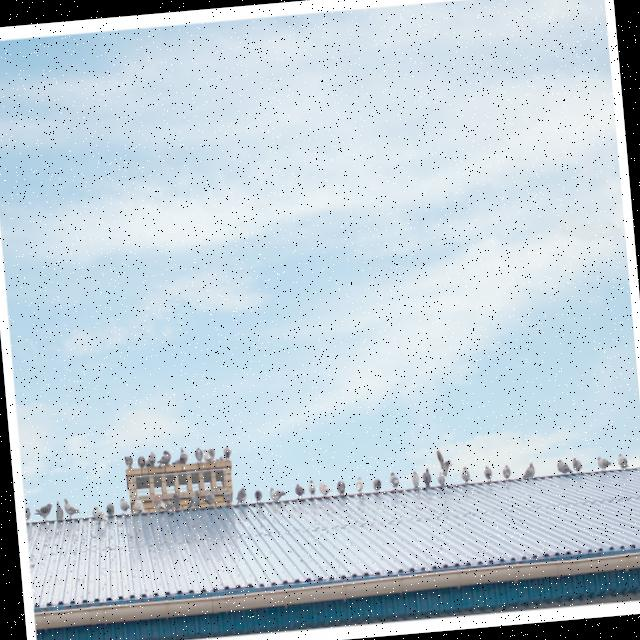bird: (434, 447, 454, 478), (32, 502, 54, 522), (62, 496, 80, 520), (268, 485, 287, 504), (154, 448, 172, 468), (90, 504, 107, 524), (520, 461, 536, 482), (232, 485, 248, 506), (420, 466, 433, 491), (556, 457, 572, 477), (596, 454, 612, 472), (616, 451, 629, 471), (410, 469, 421, 491), (104, 500, 116, 520), (388, 471, 400, 491), (144, 450, 157, 468), (459, 465, 471, 484), (54, 500, 64, 522), (571, 456, 583, 474), (176, 446, 188, 464), (482, 463, 493, 482), (318, 479, 330, 496), (306, 478, 316, 498), (335, 478, 346, 496), (118, 497, 130, 513), (293, 482, 305, 498), (122, 454, 134, 470), (23, 504, 32, 524), (502, 464, 512, 481), (222, 443, 232, 460), (253, 488, 263, 504), (193, 446, 203, 462), (136, 454, 146, 469), (436, 472, 445, 488), (638, 451, 640, 468)
